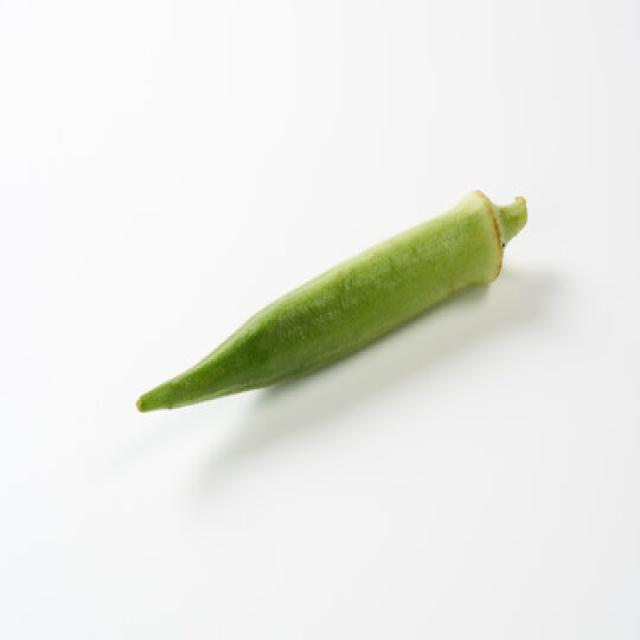Okra: (135, 185, 528, 414)
